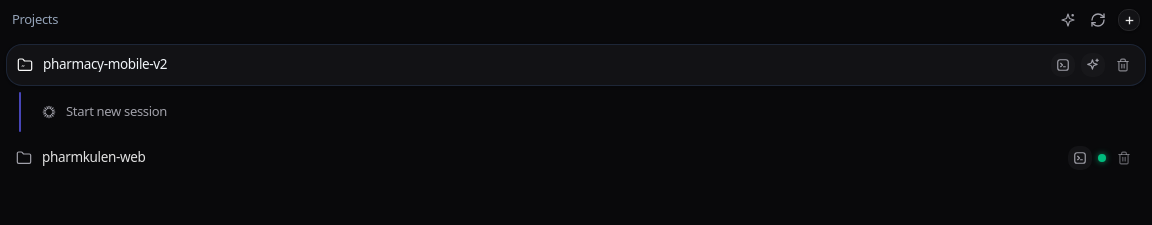
Test: ProjectsSidebarNav › shows a terminal-opening failure and allows retrying
Click the button named "Open terminal for pharmkulen-web": [1080, 158] box [1068,146,1092,170]
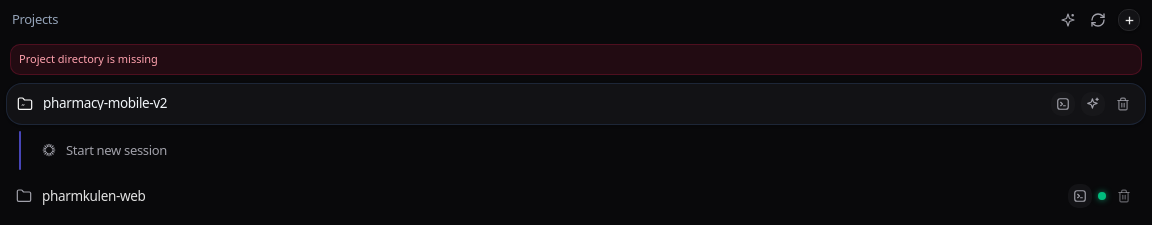
Expected: the button named "Open terminal for pharmkulen-web" is enabled, [1068,184,1092,208]
Expected: the message reads "Project directory is missing", [19,51,158,66]
